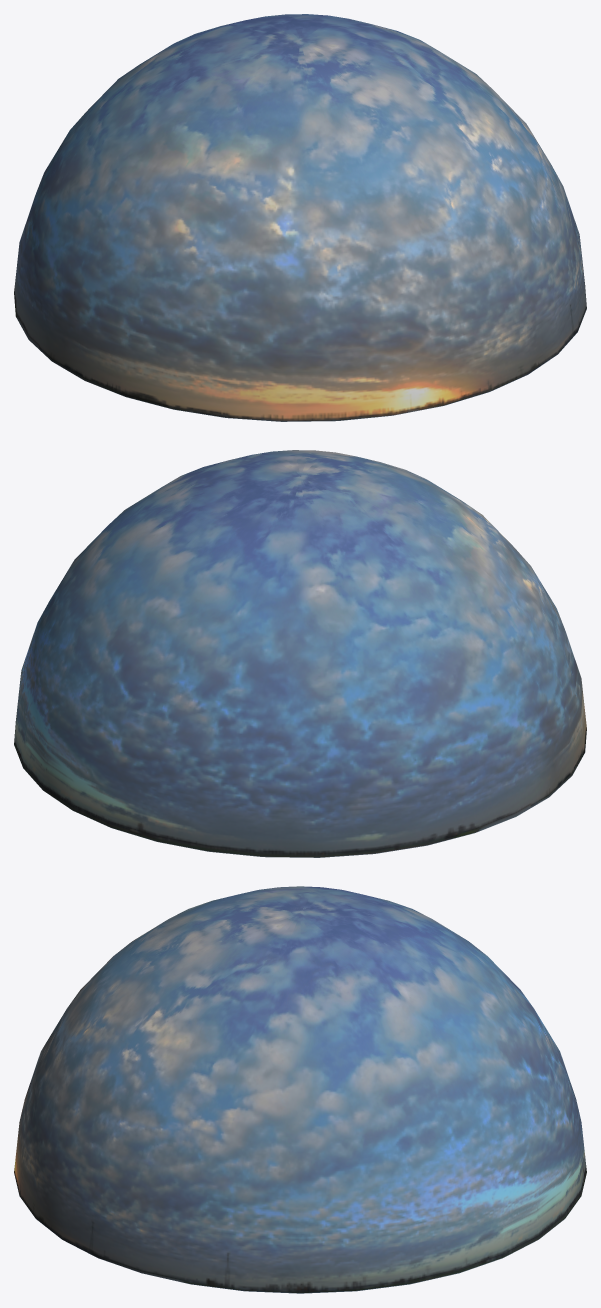
Rendered from testRoom.DAE.
3 renders of one model, top to bottom at view 1: azimuth 30°, elevation 25°; view 2: azimuth 150°, elevation 25°; view 3: azimuth 270°, elevation 25°, orthographic.
Parts seen in each view (by area): view 1: SkyDome; view 2: SkyDome; view 3: SkyDome.
Boxes of the visible parts, x1,y1,x2,y2 form: SkyDome: (14,14,586,421); SkyDome: (14,450,586,857); SkyDome: (14,886,586,1293).
Size of the model in its own units: 12000 by 12000 by 6000.
Materials: 3 (1 with a texture image).
